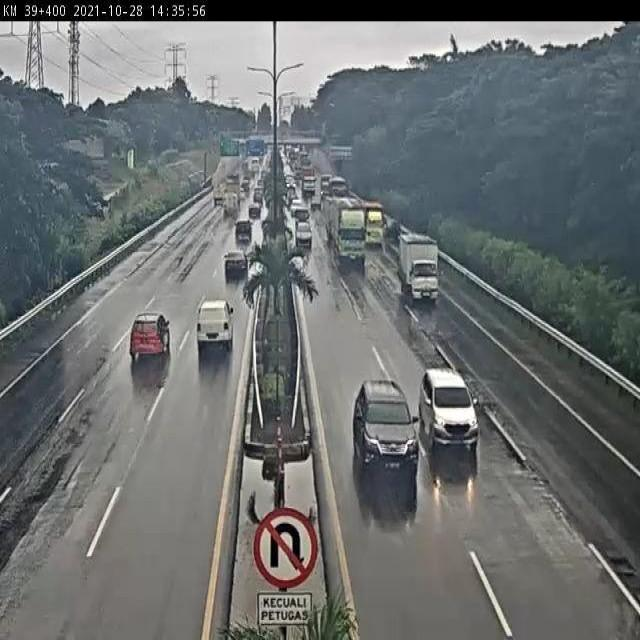big truck: (330, 199, 366, 269)
car: (420, 361, 487, 463), (350, 389, 410, 475), (124, 313, 174, 376), (194, 296, 227, 357), (216, 244, 253, 292), (231, 219, 253, 248), (295, 220, 311, 244), (247, 202, 263, 222), (293, 194, 305, 214), (296, 204, 310, 220)
small truck: (402, 236, 443, 309), (363, 203, 389, 241)
